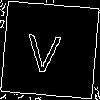V: (25, 25, 63, 73)
